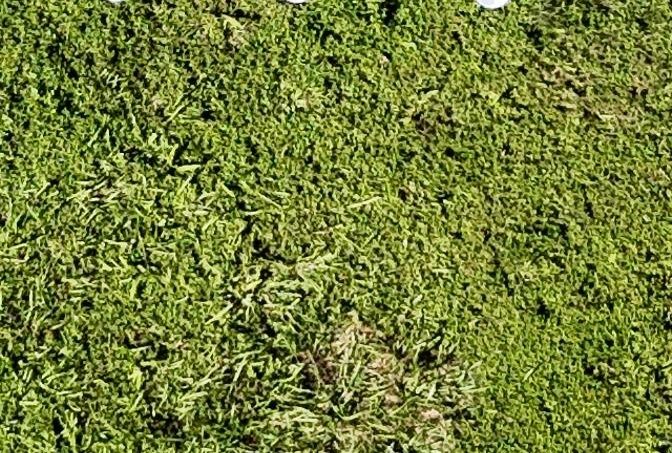bowl: (467, 0, 515, 10)
